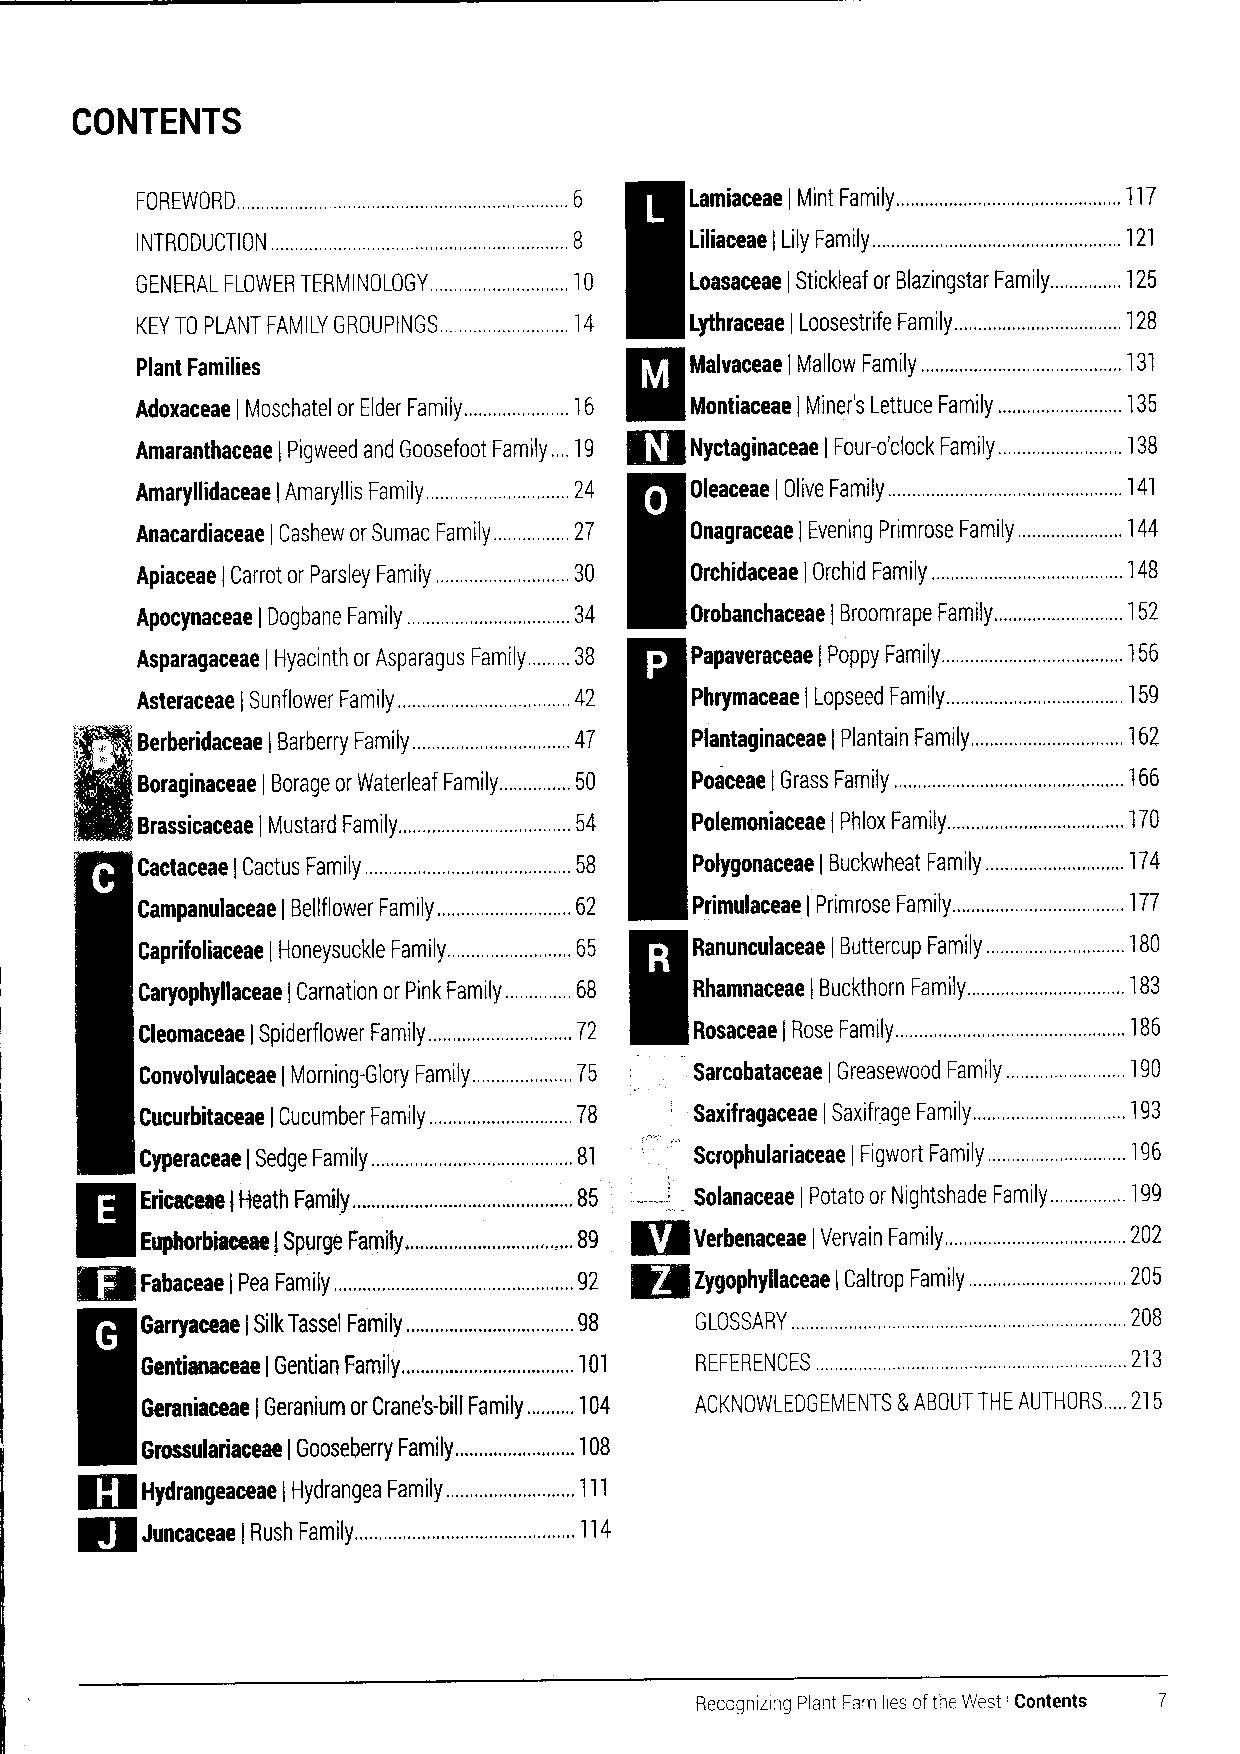TOC_chapter: (136, 976, 502, 1005), (136, 644, 525, 671), (134, 439, 548, 463), (136, 519, 491, 546), (686, 267, 1049, 293), (141, 1392, 525, 1416), (136, 772, 497, 797), (132, 393, 463, 420), (692, 1390, 1103, 1412), (686, 517, 1016, 542), (137, 894, 435, 922), (686, 600, 994, 627), (137, 935, 446, 962), (140, 1478, 444, 1504), (692, 849, 982, 878), (138, 1020, 425, 1048), (692, 1184, 1047, 1206), (137, 1062, 470, 1086), (690, 1141, 985, 1168), (686, 306, 951, 336), (691, 436, 998, 462), (137, 1103, 425, 1130), (691, 392, 993, 417), (140, 1436, 454, 1460), (691, 1098, 970, 1125), (690, 934, 982, 960), (691, 1266, 966, 1292), (136, 479, 424, 505), (134, 603, 404, 629), (136, 562, 429, 586), (140, 1227, 403, 1253), (692, 1059, 1001, 1082), (136, 268, 427, 293), (686, 349, 917, 378), (691, 726, 972, 750), (691, 1223, 943, 1249), (690, 974, 968, 998), (134, 687, 395, 713), (140, 1353, 400, 1378), (136, 729, 409, 753), (134, 313, 437, 334), (140, 1312, 403, 1337), (691, 684, 945, 709), (138, 1145, 366, 1172), (690, 643, 939, 667), (137, 815, 399, 837), (690, 892, 951, 915), (691, 811, 947, 833), (136, 854, 362, 879), (141, 1520, 353, 1547), (684, 183, 895, 209), (137, 1186, 352, 1212), (691, 560, 927, 582), (691, 768, 891, 794), (690, 475, 883, 502), (137, 1270, 330, 1296), (688, 225, 871, 252), (688, 1019, 894, 1040), (132, 225, 267, 251), (134, 354, 263, 378), (692, 1349, 811, 1373), (134, 187, 238, 211), (692, 1307, 789, 1331)
TOC_pagenumber: (1126, 1345, 1164, 1369), (1129, 1138, 1164, 1164), (1127, 1261, 1164, 1286), (1125, 221, 1157, 248), (1129, 1096, 1162, 1122), (1125, 513, 1159, 537), (576, 1474, 611, 1498), (577, 1516, 612, 1541), (1129, 1053, 1161, 1079), (1123, 307, 1157, 331), (1127, 1304, 1162, 1327), (1129, 930, 1161, 954), (1125, 557, 1158, 580), (577, 1392, 611, 1414), (1127, 972, 1161, 994), (1126, 1016, 1164, 1036), (1125, 472, 1155, 497), (1131, 1180, 1162, 1204), (1126, 391, 1158, 413), (1125, 433, 1157, 456), (1127, 847, 1159, 870), (1130, 1388, 1162, 1410), (577, 1436, 611, 1457), (1125, 348, 1155, 370), (1123, 183, 1155, 204), (1125, 267, 1157, 289), (1127, 765, 1159, 786), (1130, 1223, 1162, 1244), (572, 309, 597, 336), (1125, 641, 1158, 662), (577, 1354, 611, 1374), (1127, 680, 1157, 703), (1126, 599, 1157, 620), (1126, 725, 1158, 745), (574, 1100, 599, 1126), (573, 1227, 600, 1249), (1129, 890, 1158, 910), (573, 684, 597, 709), (568, 184, 590, 209), (572, 267, 595, 293), (572, 768, 597, 790), (573, 894, 599, 917), (573, 1019, 599, 1041), (574, 976, 599, 998), (576, 1308, 599, 1333), (570, 519, 596, 541), (574, 933, 596, 958), (577, 1184, 599, 1209), (570, 727, 597, 747), (576, 1268, 599, 1291), (574, 849, 596, 874), (1127, 809, 1157, 827), (573, 561, 596, 582), (574, 1142, 596, 1165), (573, 395, 595, 416), (573, 811, 596, 831), (576, 1062, 599, 1082), (574, 475, 592, 501), (573, 604, 595, 624), (570, 225, 586, 251), (574, 437, 595, 458), (574, 646, 595, 666)
chapter: (68, 102, 244, 140)
